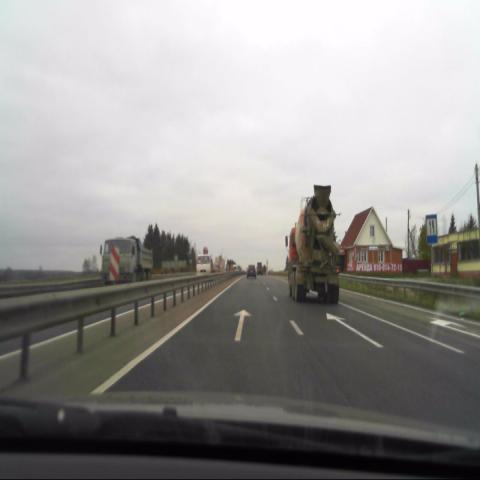7_7: (426, 213, 436, 242)
